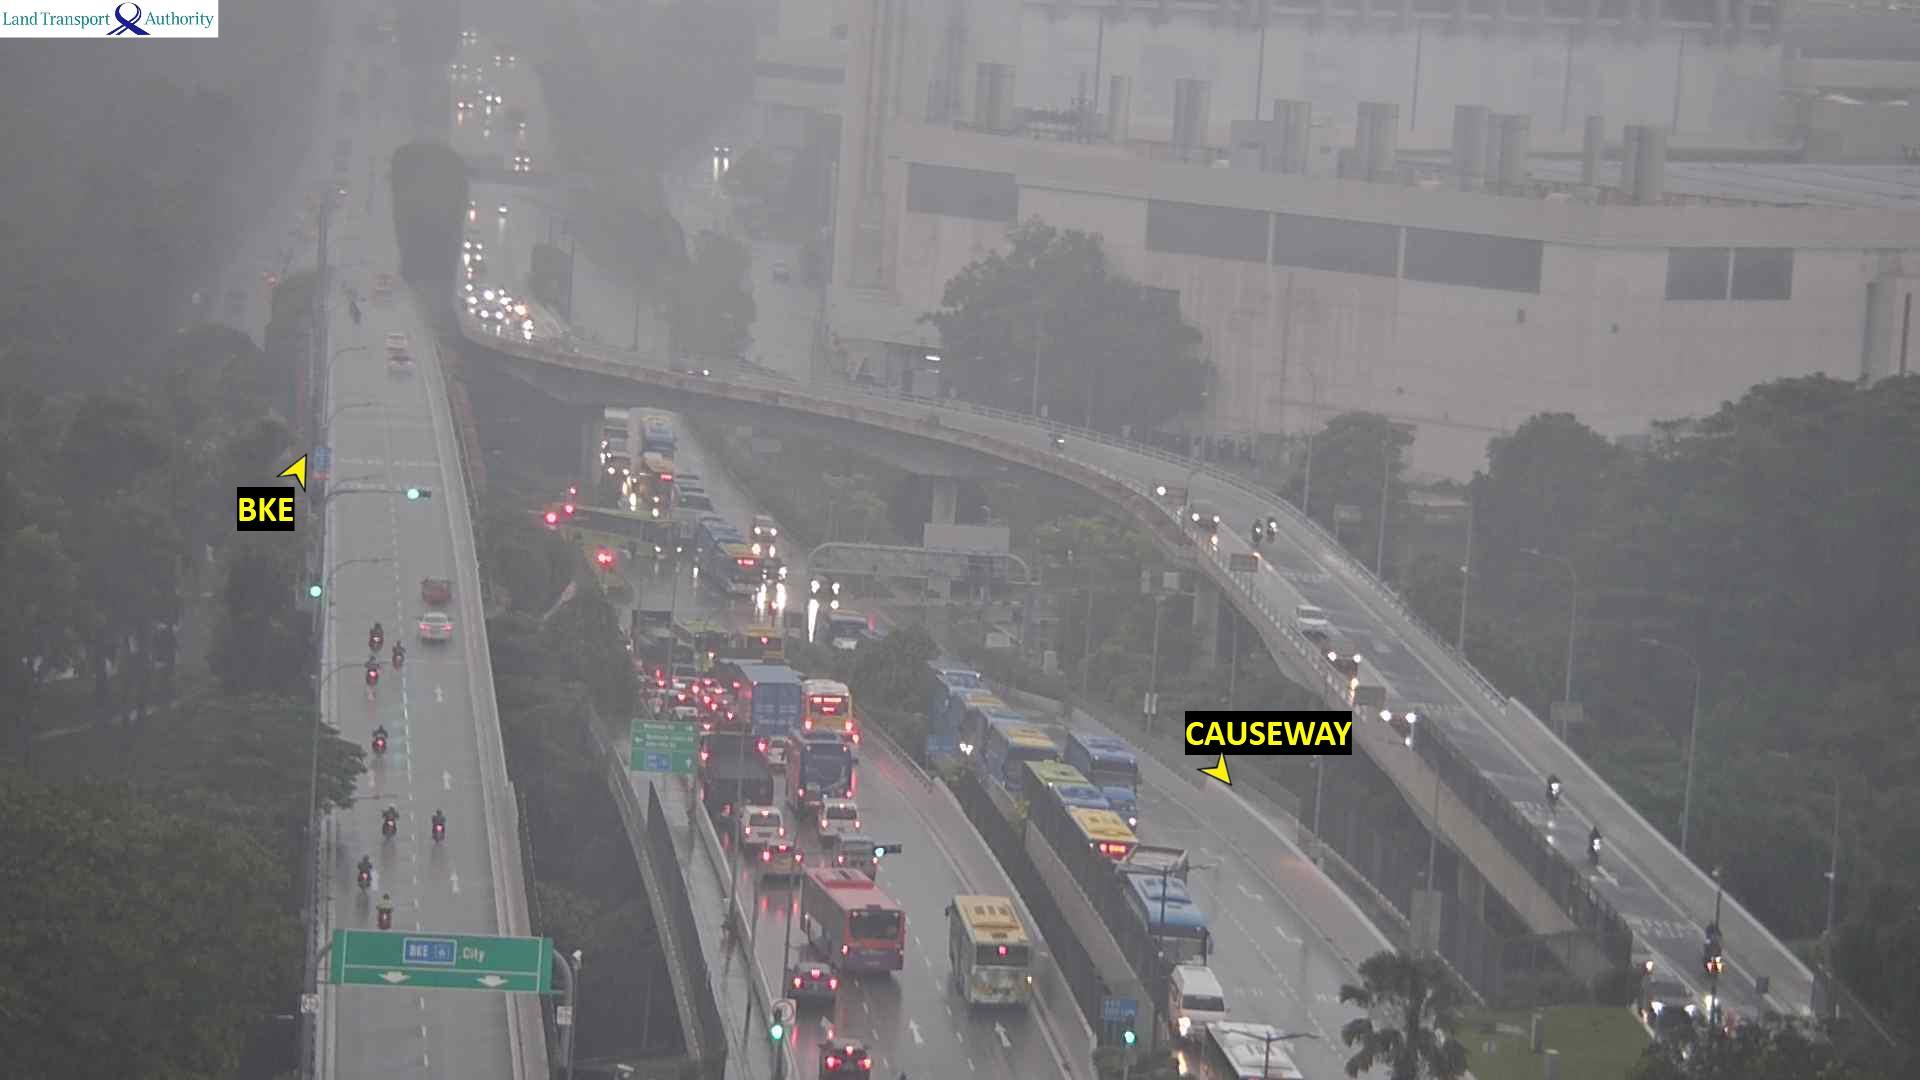vehicle-causeway-johor: (1124, 876, 1208, 972), (1201, 1022, 1303, 1080), (990, 721, 1060, 798), (1166, 963, 1229, 1040), (1067, 731, 1138, 798), (1639, 972, 1693, 1021), (1102, 786, 1137, 833), (1291, 607, 1331, 634), (1323, 644, 1361, 671), (1704, 926, 1722, 973), (1187, 501, 1220, 527), (1544, 771, 1568, 806), (1586, 822, 1604, 864), (1265, 513, 1280, 542), (1048, 430, 1065, 452), (1251, 518, 1263, 545)
vehicle-causeway-singapore: (800, 866, 906, 975), (953, 898, 1031, 1011), (703, 736, 771, 822), (738, 666, 800, 760), (790, 728, 852, 811), (802, 680, 853, 731), (820, 1039, 872, 1080), (787, 963, 833, 1004), (819, 795, 860, 841), (740, 806, 783, 847), (835, 833, 878, 872), (760, 844, 799, 881), (418, 613, 452, 641), (376, 804, 396, 847), (421, 579, 455, 603), (376, 894, 396, 928), (364, 653, 378, 692), (357, 853, 372, 891), (372, 273, 393, 298), (433, 804, 447, 840), (372, 719, 385, 754), (388, 359, 413, 376), (386, 331, 406, 349), (392, 644, 406, 669), (368, 621, 381, 647)
